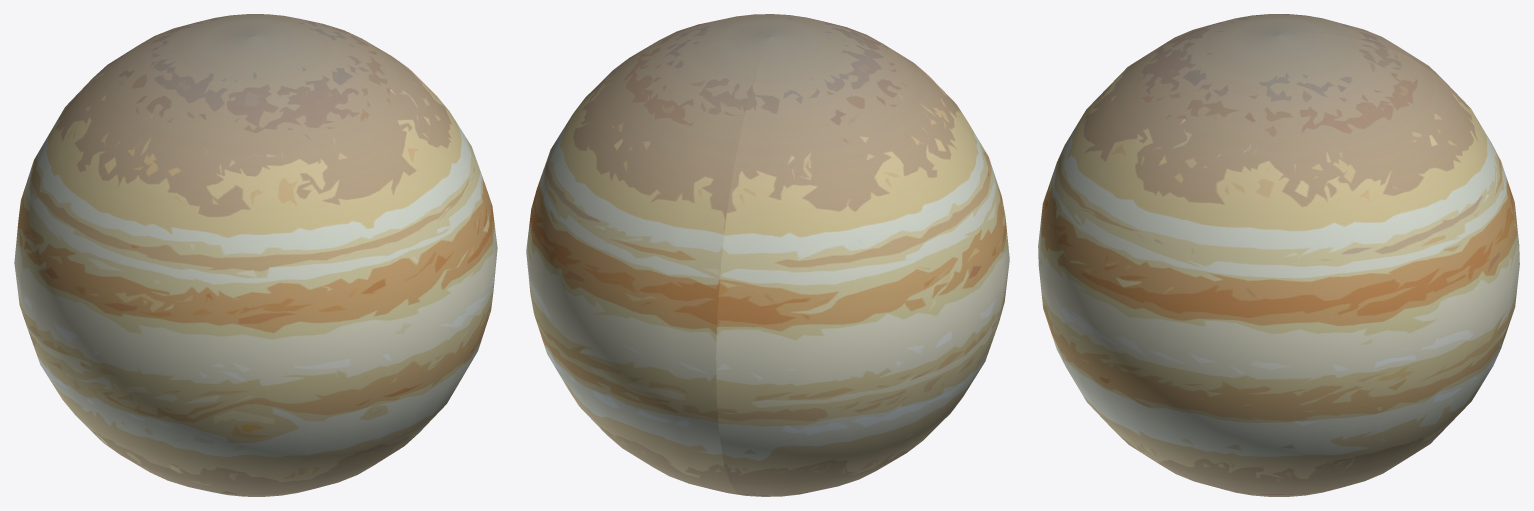
File: jupiter.glb
3 renders of one model, left to right at view 1: azimuth 30°, elevation 25°; view 2: azimuth 150°, elevation 25°; view 3: azimuth 270°, elevation 25°, orthographic.
Visible parts, largest first — view 1: Jupiter; view 2: Jupiter; view 3: Jupiter.
Boxes of the visible parts, box(x1,y1,x2,y2) form: Jupiter: box(14, 14, 497, 496); Jupiter: box(526, 14, 1009, 496); Jupiter: box(1038, 14, 1519, 496).
Bounding box in the file's own units: 1.81 × 1.82 × 1.81.
1 material, 1 textured.
